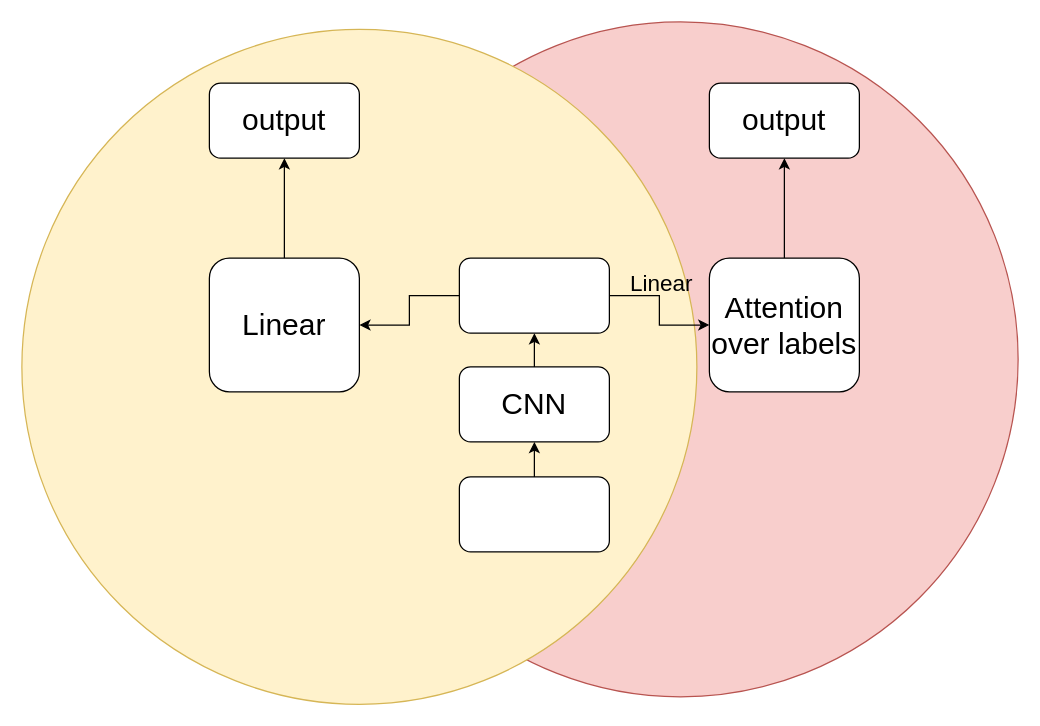
The diagram is 1040 pixels wide and 726 high, and some of its shapes have lost their labels. The shapes that lost their labels are listed below. From the top down, each one's box as (x1, y1, x2, y2) in pixels, then its label:
(458, 257, 609, 333): Features
(458, 476, 609, 552): RNN
